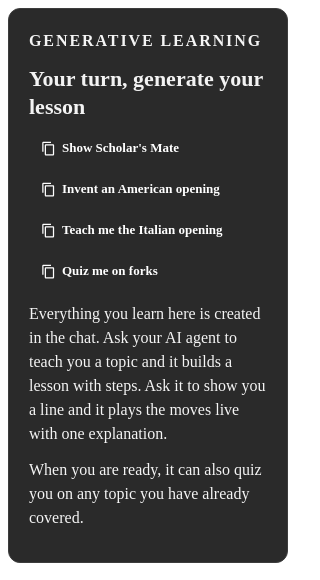
LessonCoach empty state › shows a copied mark and paste tooltip after copying a prompt
Click the button "Show Scholar's Mate": (110, 148) [29,132,191,165]
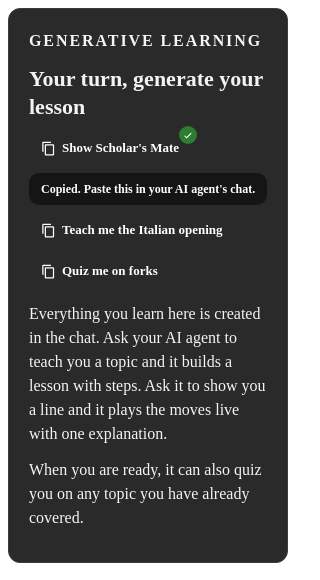
Expected: the text "Copied. Paste this in your AI agent's chat." is shown, [29,173,267,205]
